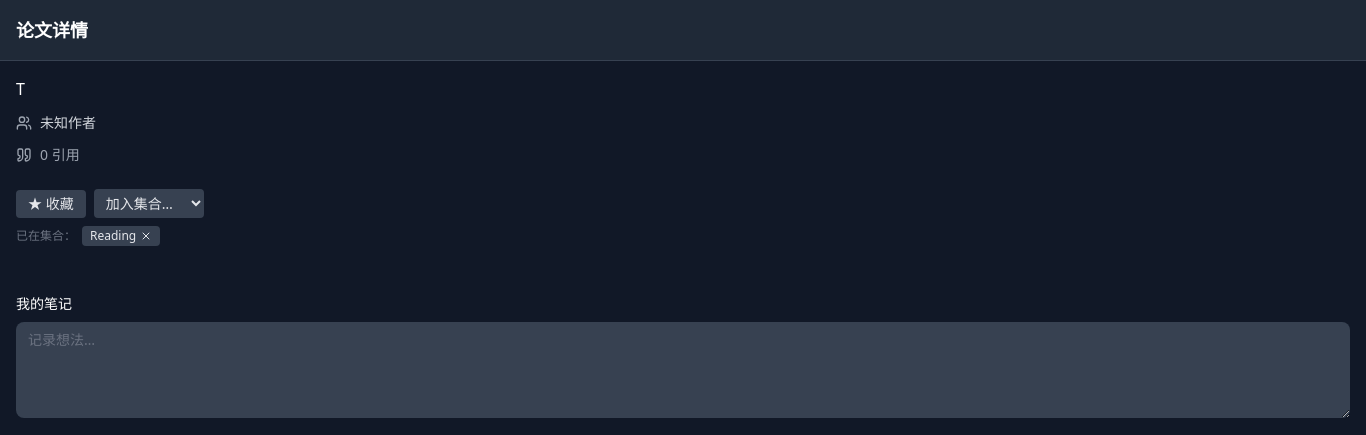
DetailsPanel notes › shows the collections holding the paper and removes it on click
Expected: the text "已在集合：" is shown, x1=16 y1=228 x2=76 y2=244
Click the button "Reading".
click(121, 236)  # box x1=82 y1=226 x2=160 y2=246
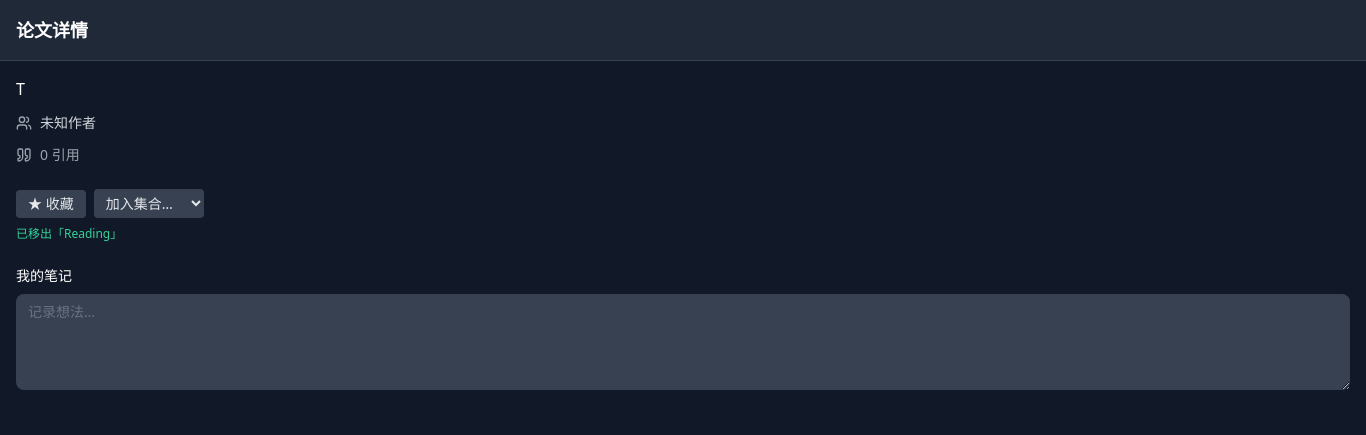
Now the text "已移出「Reading」" is shown, box x1=16 y1=225 x2=122 y2=242
Now the text "已在集合：" is gone
